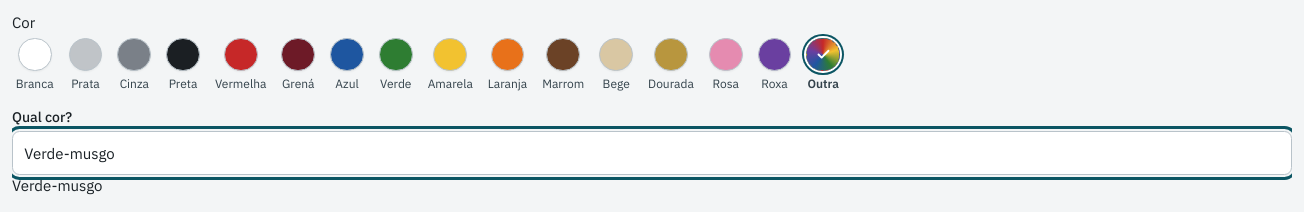
Test: SeletorCor › cor fora da lista abre "Outra" com o texto; trocar para uma amostra fecha o campo
Expected: the field labelled "Qual cor?" holds "Verde-musgo", [12,131,1292,175]
Click the radio button labelled "Azul": x=347, y=65 [326,34,368,96]
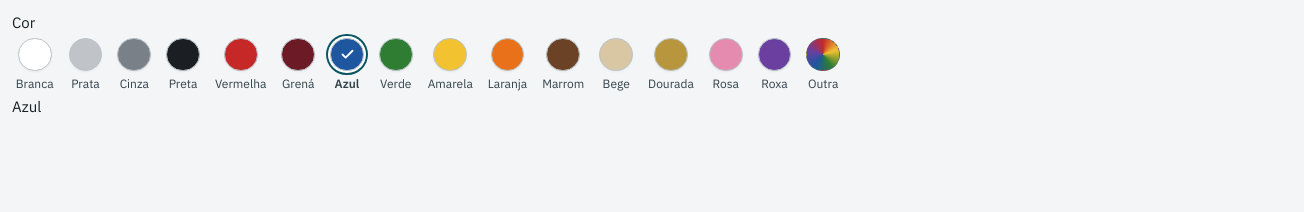
Expected: the 1st text "Azul" is shown, [335,75,359,92]
Result: the label labelled "Qual cor?" is gone
